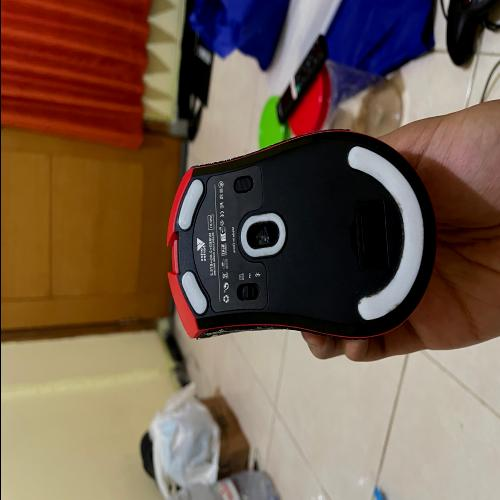mouse: (155, 121, 445, 370)
